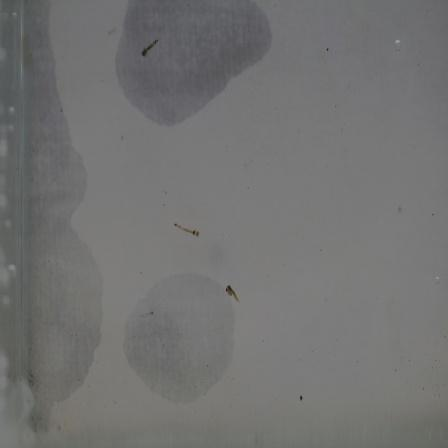Jentik-Nyamuk: (171, 216, 203, 243), (139, 36, 161, 61), (222, 280, 242, 305)
